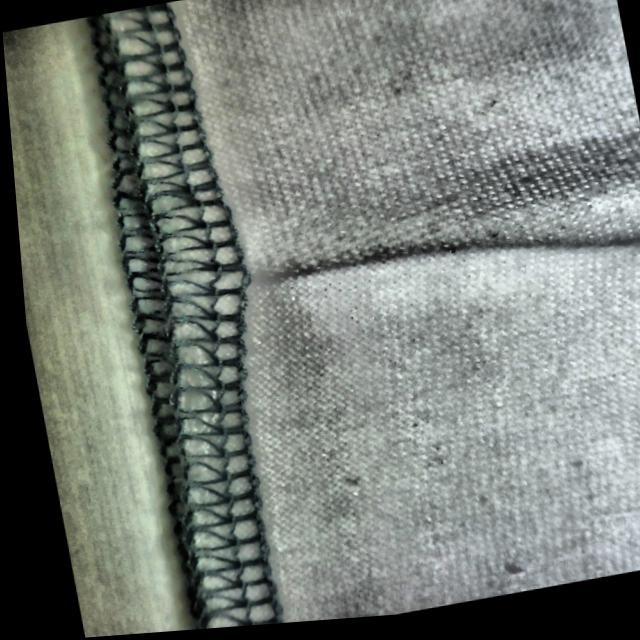seam: (147, 156, 482, 355)
